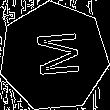M_W: (27, 31, 81, 82)
